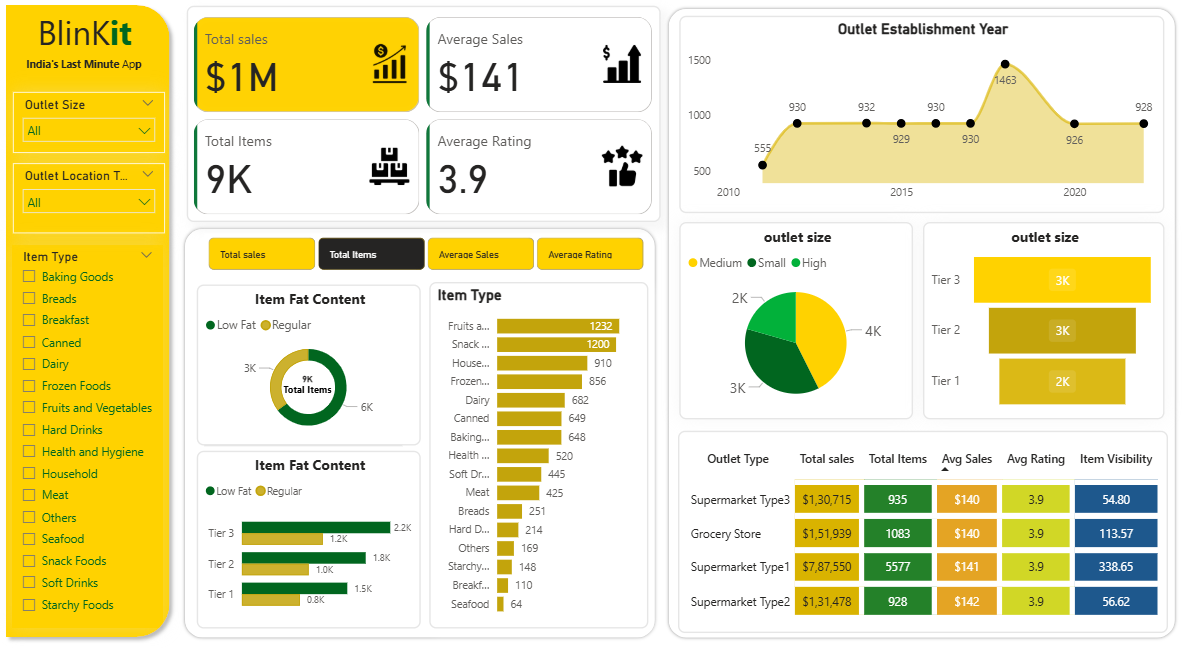

The page's visual inventory and layout, read from the dashboard file:
{"tool":"powerbi","page":{"name":"Dashboard","canvas":[1400,800],"ordinal":0},"visuals":[{"type":"shape","box":[0,0,205.1,740.5],"z":0},{"type":"textbox","box":[294.9,127.8,207.6,54.4],"z":1000},{"type":"textbox","box":[27.8,62,149.4,31.6],"z":2000},{"type":"textbox","box":[15.2,10.1,167.1,67.1],"z":3000},{"type":"shape","box":[205.7,257.1,552.9,482.9],"z":4000},{"type":"cardVisual","fields":{"Data":["BlinkIT Grocery Data.Total sales","BlinkIT Grocery Data.Average Sales","BlinkIT Grocery Data.Total Items","BlinkIT Grocery Data.Average Rating"]},"box":[215.7,10,541.4,247.1],"z":5000},{"type":"advancedSlicerVisual","fields":{"Values":["Metrics.Metrics"]},"box":[235.7,270,507.1,47.1],"z":6000},{"type":"donutChart","title":" Item Fat Content","fields":{"Y":["BlinkIT Grocery Data.Total Items"],"Category":["BlinkIT Grocery Data.Item Fat Content"]},"box":[227.1,328.6,255.7,184.3],"z":7000},{"type":"clusteredBarChart","title":" Item Fat Content","fields":{"Y":["BlinkIT Grocery Data.Total Items"],"Category":["BlinkIT Grocery Data.Outlet Location Type"],"Series":["BlinkIT Grocery Data.Item Fat Content"]},"box":[227.1,518.6,255.7,202.9],"z":8000},{"type":"shape","box":[235.4,498.7,226.6,27.8],"z":9000},{"type":"barChart","title":" Item Type","fields":{"Y":["BlinkIT Grocery Data.Total Items"],"Category":["BlinkIT Grocery Data.Item Type"]},"box":[492.9,325.7,250,395.7],"z":11000},{"type":"shape","box":[758.6,5.7,594.3,734.3],"z":12000},{"type":"lineChart","title":" Outlet Establishment Year","fields":{"Y":["BlinkIT Grocery Data.Total Items"],"Category":["BlinkIT Grocery Data.Outlet Establishment Year"]},"box":[778.6,21.4,554.3,225.7],"z":13000},{"type":"pieChart","title":"outlet size","fields":{"Y":["BlinkIT Grocery Data.Total Items"],"Category":["BlinkIT Grocery Data.Outlet Size"]},"box":[778.6,257.1,267.1,225.7],"z":14000},{"type":"funnel","title":"outlet size","fields":{"Y":["BlinkIT Grocery Data.Total Items"],"Category":["BlinkIT Grocery Data.Outlet Location Type"]},"box":[1057.1,257.1,275.7,225.7],"z":15000},{"type":"slicer","title":"outlet size","fields":{"Values":["BlinkIT Grocery Data.Outlet Size"]},"box":[17.7,108.9,173.4,69.6],"z":16000},{"type":"slicer","title":"outlet size","fields":{"Values":["BlinkIT Grocery Data.Outlet Location Type"]},"box":[16.5,189.9,173.4,79.7],"z":17000},{"type":"slicer","title":"outlet size","fields":{"Values":["BlinkIT Grocery Data.Item Type"]},"box":[15.7,282.9,172.9,438.6],"z":18000},{"type":"pivotTable","fields":{"Rows":["BlinkIT Grocery Data.Outlet Type"],"Values":["BlinkIT Grocery Data.Total sales","BlinkIT Grocery Data.Total Items","BlinkIT Grocery Data.Average Sales","BlinkIT Grocery Data.Average Rating","Sum(BlinkIT Grocery Data.Item Visibility)"]},"box":[777.1,495.7,560,231.4],"z":22000},{"type":"cardVisual","title":" Item Fat Content","fields":{"Data":["BlinkIT Grocery Data.Total Items"]},"box":[308.6,404.3,90,78.6],"z":23000}]}

Visuals, with their boxes on the page's 1400x800 design canvas (x1, y1, x2, y2). These are canvas units, not pixel positions in the 1185x648 screenshot, which may show the page scaled, cropped or inside an application window:
shape: box=[0, 0, 205, 740]
textbox: box=[295, 128, 502, 182]
textbox: box=[28, 62, 177, 94]
textbox: box=[15, 10, 182, 77]
shape: box=[206, 257, 759, 740]
cardVisual - BlinkIT Grocery Data.Total sales x BlinkIT Grocery Data.Average Sales: box=[216, 10, 757, 257]
advancedSlicerVisual - Metrics.Metrics: box=[236, 270, 743, 317]
" Item Fat Content" donutChart: box=[227, 329, 483, 513]
" Item Fat Content" clusteredBarChart: box=[227, 519, 483, 722]
shape: box=[235, 499, 462, 526]
" Item Type" barChart: box=[493, 326, 743, 721]
shape: box=[759, 6, 1353, 740]
" Outlet Establishment Year" lineChart: box=[779, 21, 1333, 247]
"outlet size" pieChart: box=[779, 257, 1046, 483]
"outlet size" funnel: box=[1057, 257, 1333, 483]
"outlet size" slicer: box=[18, 109, 191, 178]
"outlet size" slicer: box=[16, 190, 190, 270]
"outlet size" slicer: box=[16, 283, 189, 722]
pivotTable - BlinkIT Grocery Data.Outlet Type x BlinkIT Grocery Data.Total sales: box=[777, 496, 1337, 727]
" Item Fat Content" cardVisual: box=[309, 404, 399, 483]
